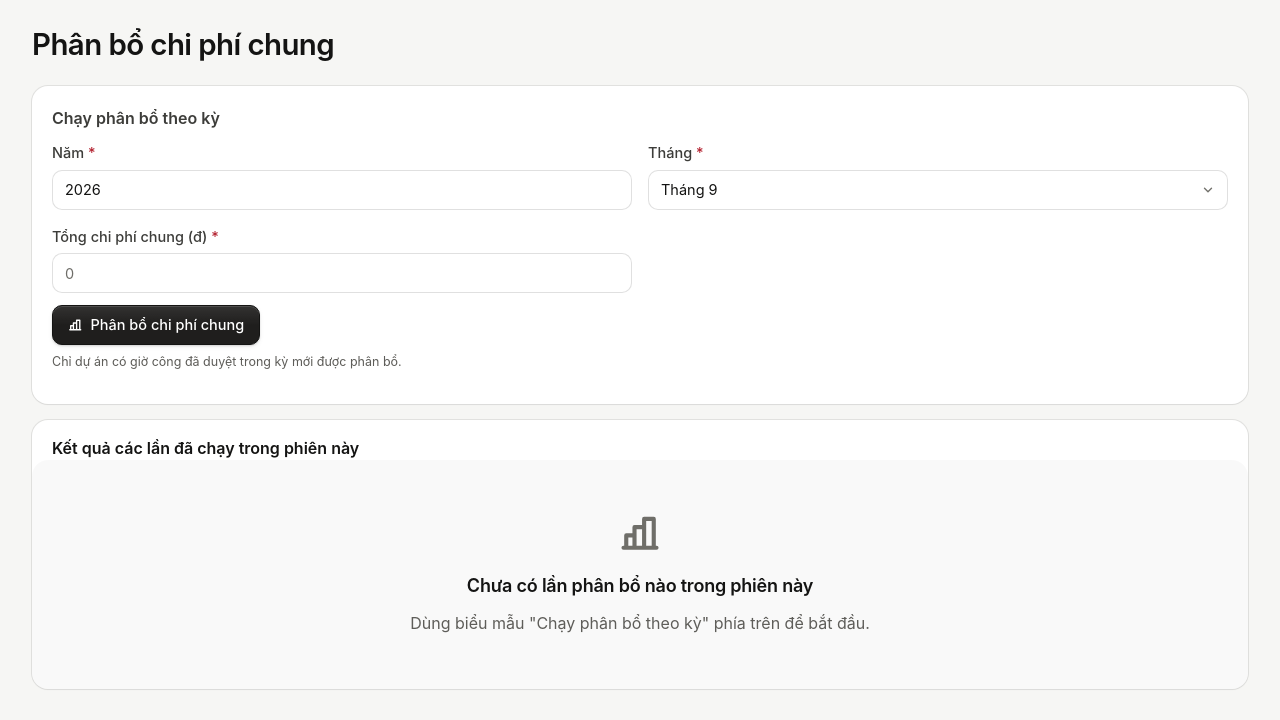
Test case: OverheadAllocationPage (NCL-08-CN-005 — Phân bổ chi phí chung cho dự án) › không cho chạy khi bỏ trống tổng chi phí chung
The width and height of the screenshot is (1280, 720).
Click the button with test id "btn-run-overhead-allocation" at point(156, 325), box [52,305,260,345]
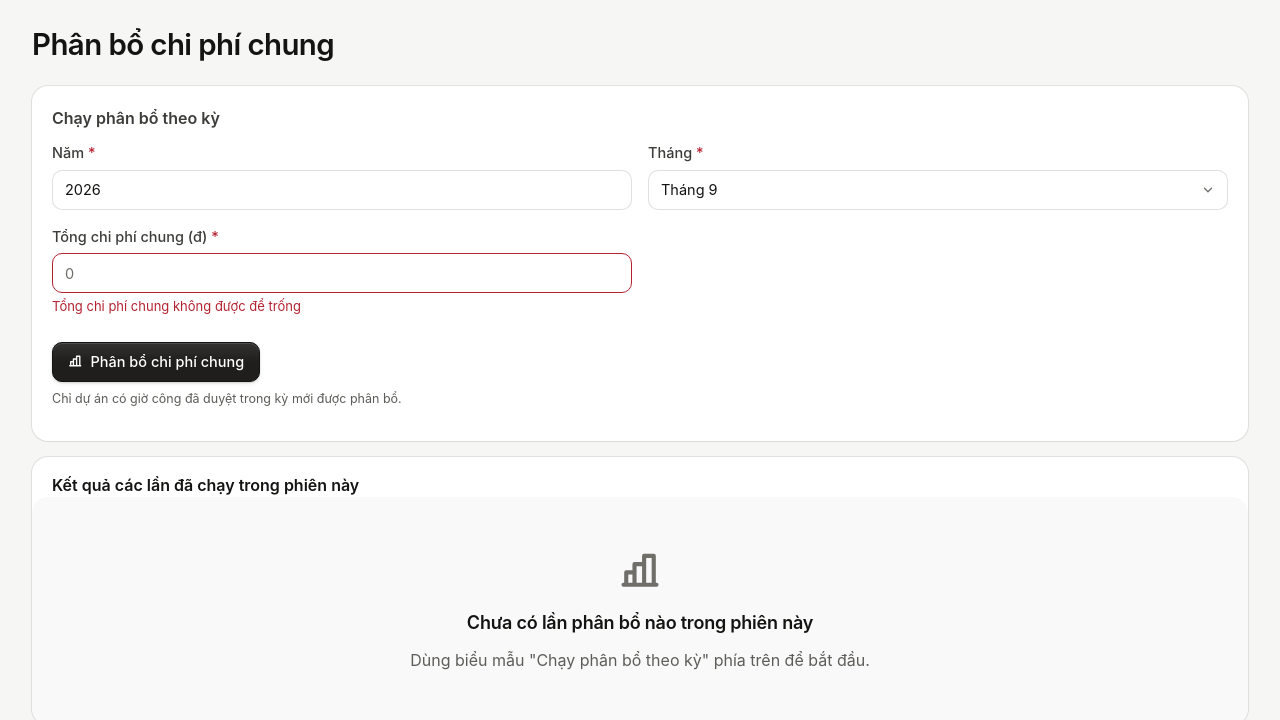
Expected: the text with test id "error-overhead-amount" reads "Tổng chi phí chung không được để trống", [52,298,301,314]
